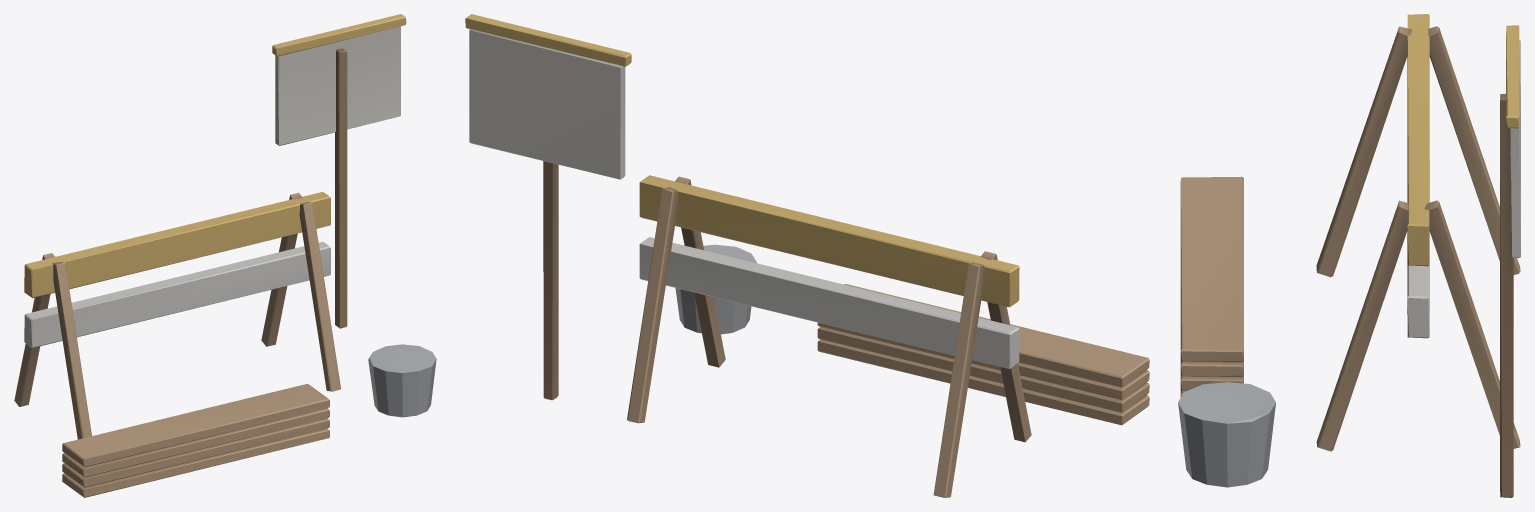
The model's file is home_build_sign__base_low.glb.
3 views of the same model, side by side, from view 1: azimuth 30°, elevation 25°; view 2: azimuth 150°, elevation 25°; view 3: azimuth 270°, elevation 25° (orthographic). The views are drawn at different scales.
Size of the model in its own units: 2.47 by 1.6 by 1.16.
